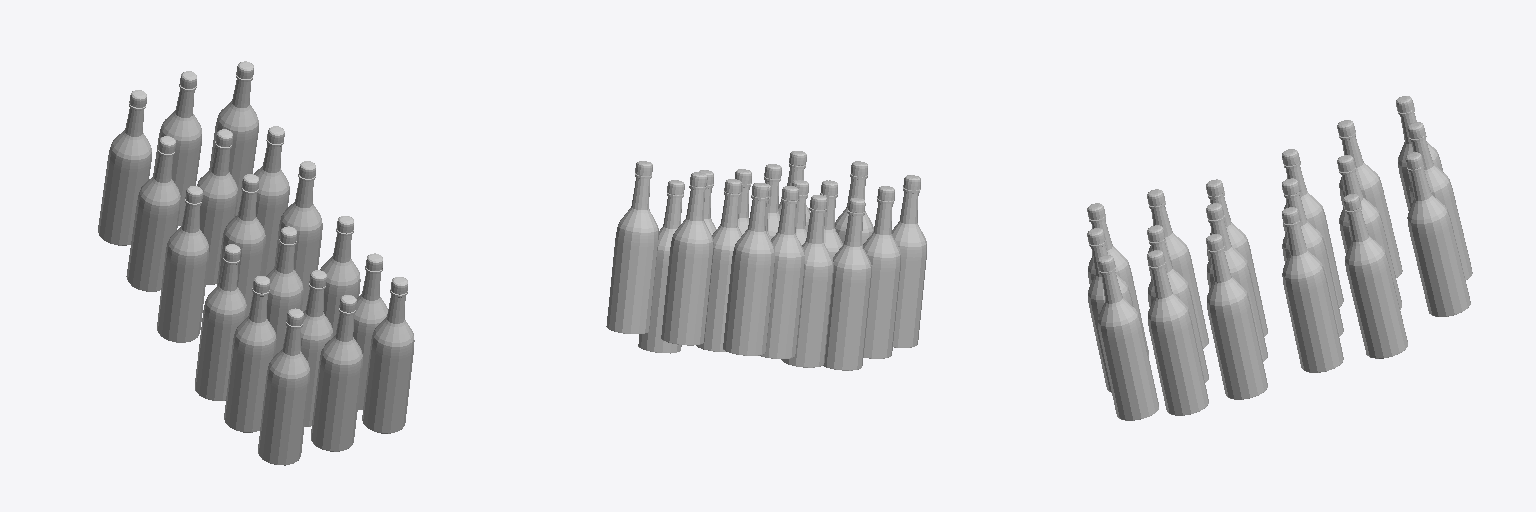
Rendered from CR_allbottles.obj.
3 views of the same model, side by side, from view 1: azimuth 30°, elevation 25°; view 2: azimuth 150°, elevation 25°; view 3: azimuth 270°, elevation 25° (orthographic).
Visible parts, largest first — view 1: 18851_Ring_Toss_Game_V1.014, 18851_Ring_Toss_Game_V1.015, 18851_Ring_Toss_Game_V1.007, 18851_Ring_Toss_Game_V1.016, 18851_Ring_Toss_Game_V1.011, 18851_Ring_Toss_Game_V1.005, 18851_Ring_Toss_Game_V1.019, 18851_Ring_Toss_Game_V1.010, 18851_Ring_Toss_Game_V1.002, 18851_Ring_Toss_Game_V1.017, 18851_Ring_Toss_Game_V1.018, 18851_Ring_Toss_Game_V1.001 (+6 smaller); view 2: 18851_Ring_Toss_Game_V1.018, 18851_Ring_Toss_Game_V1.019, 18851_Ring_Toss_Game_V1.017, 18851_Ring_Toss_Game_V1.010, 18851_Ring_Toss_Game_V1.005, 18851_Ring_Toss_Game_V1.007, 18851_Ring_Toss_Game_V1.011, 18851_Ring_Toss_Game_V1.016, 18851_Ring_Toss_Game_V1.002, 18851_Ring_Toss_Game_V1.004, 18851_Ring_Toss_Game_V1.015, 18851_Ring_Toss_Game_V1.012 (+4 smaller); view 3: 18851_Ring_Toss_Game_V1.009, 18851_Ring_Toss_Game_V1.006, 18851_Ring_Toss_Game_V1.013, 18851_Ring_Toss_Game_V1.014, 18851_Ring_Toss_Game_V1.004, 18851_Ring_Toss_Game_V1.017, 18851_Ring_Toss_Game_V1.005, 18851_Ring_Toss_Game_V1.018, 18851_Ring_Toss_Game_V1.011, 18851_Ring_Toss_Game_V1.002, 18851_Ring_Toss_Game_V1.008, 18851_Ring_Toss_Game_V1.001 (+6 smaller).
Part boxes in pixels (bbox=[...]): 18851_Ring_Toss_Game_V1.014: bbox=[362, 277, 414, 433]; 18851_Ring_Toss_Game_V1.015: bbox=[311, 295, 362, 451]; 18851_Ring_Toss_Game_V1.007: bbox=[157, 186, 208, 342]; 18851_Ring_Toss_Game_V1.016: bbox=[258, 308, 309, 465]; 18851_Ring_Toss_Game_V1.011: bbox=[224, 276, 276, 432]; 18851_Ring_Toss_Game_V1.005: bbox=[126, 136, 180, 291]; 18851_Ring_Toss_Game_V1.019: bbox=[98, 90, 151, 245]; 18851_Ring_Toss_Game_V1.010: bbox=[195, 244, 246, 400]; 18851_Ring_Toss_Game_V1.002: bbox=[197, 129, 237, 284]; 18851_Ring_Toss_Game_V1.017: bbox=[209, 61, 258, 216]; 18851_Ring_Toss_Game_V1.018: bbox=[153, 71, 201, 225]; 18851_Ring_Toss_Game_V1.001: bbox=[217, 174, 265, 316]; 18851_Ring_Toss_Game_V1.018: bbox=[661, 172, 713, 345]; 18851_Ring_Toss_Game_V1.019: bbox=[723, 183, 774, 355]; 18851_Ring_Toss_Game_V1.017: bbox=[606, 161, 658, 333]; 18851_Ring_Toss_Game_V1.010: bbox=[823, 198, 871, 370]; 18851_Ring_Toss_Game_V1.005: bbox=[760, 186, 804, 358]; 18851_Ring_Toss_Game_V1.007: bbox=[781, 195, 833, 367]; 18851_Ring_Toss_Game_V1.011: bbox=[863, 186, 900, 358]; 18851_Ring_Toss_Game_V1.016: bbox=[892, 175, 926, 347]; 18851_Ring_Toss_Game_V1.002: bbox=[696, 179, 741, 351]; 18851_Ring_Toss_Game_V1.004: bbox=[638, 180, 684, 353]; 18851_Ring_Toss_Game_V1.015: bbox=[835, 161, 873, 245]; 18851_Ring_Toss_Game_V1.012: bbox=[820, 180, 842, 258]; 18851_Ring_Toss_Game_V1.009: bbox=[1206, 234, 1267, 399]; 18851_Ring_Toss_Game_V1.006: bbox=[1282, 207, 1343, 372]; 18851_Ring_Toss_Game_V1.013: bbox=[1147, 250, 1208, 415]; 18851_Ring_Toss_Game_V1.014: bbox=[1097, 255, 1158, 420]; 18851_Ring_Toss_Game_V1.004: bbox=[1343, 194, 1407, 358]; 18851_Ring_Toss_Game_V1.017: bbox=[1405, 152, 1470, 316]; 18851_Ring_Toss_Game_V1.005: bbox=[1337, 120, 1402, 277]; 18851_Ring_Toss_Game_V1.018: bbox=[1407, 122, 1472, 279]; 18851_Ring_Toss_Game_V1.011: bbox=[1147, 189, 1208, 348]; 18851_Ring_Toss_Game_V1.002: bbox=[1337, 155, 1401, 309]; 18851_Ring_Toss_Game_V1.008: bbox=[1206, 203, 1267, 361]; 18851_Ring_Toss_Game_V1.001: bbox=[1282, 178, 1343, 336].
Bounding box in the file's own units: 42.51 × 71.09 × 93.66.